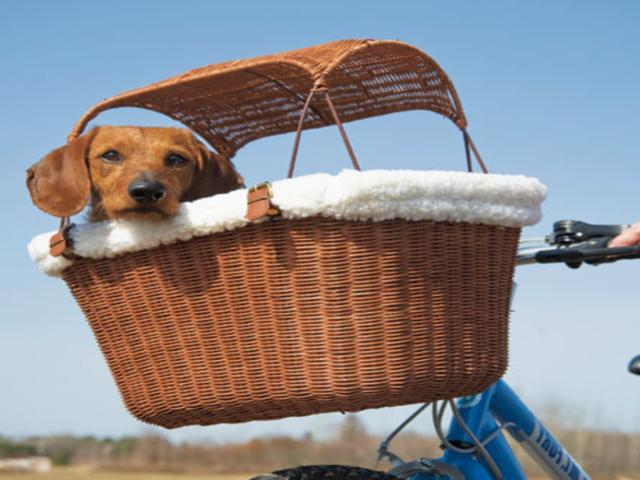Dog: (23, 128, 247, 225)
